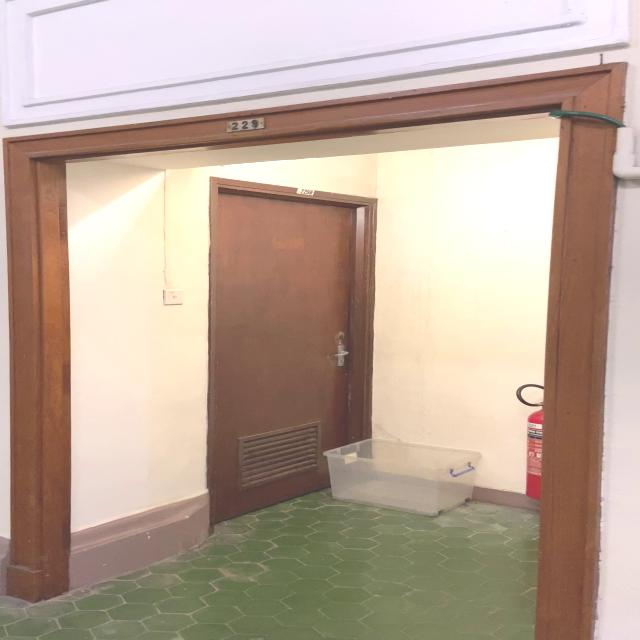room229: (223, 115, 269, 135)
